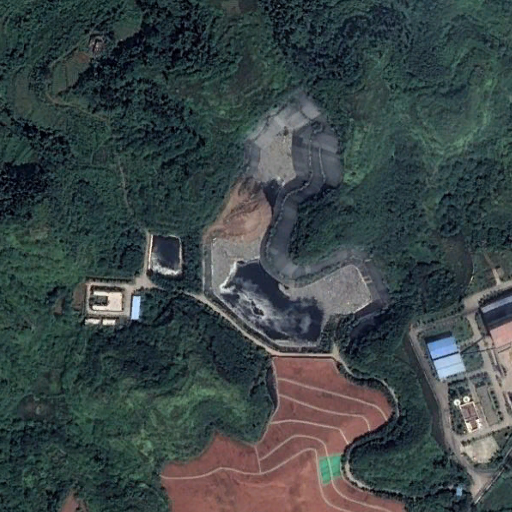lf: (203, 87, 388, 356)
